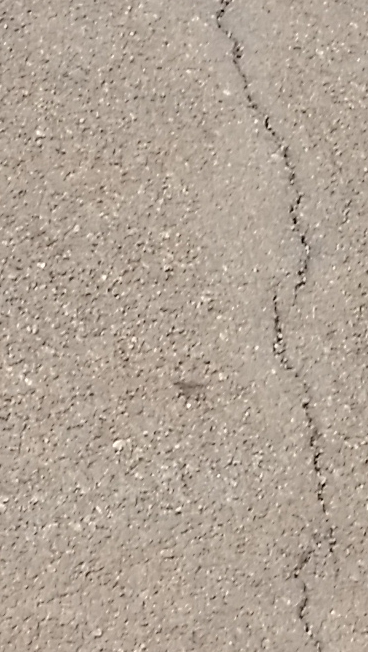A: (199, 1, 356, 648)
